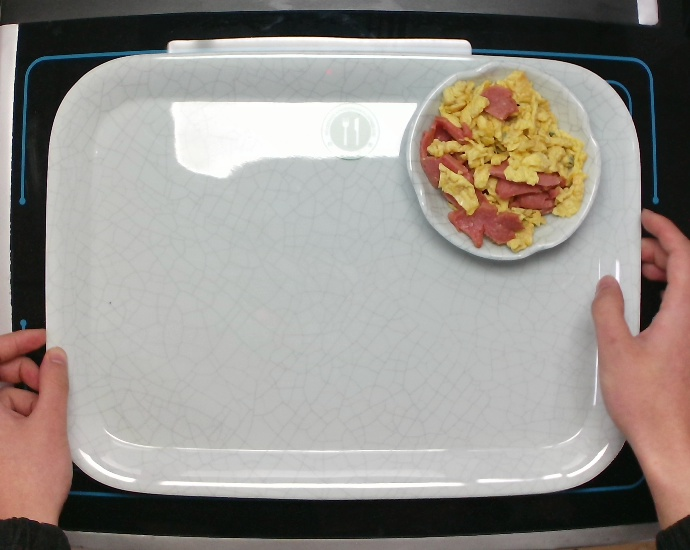JYsf-Ao_Yuan_Wan: (403, 57, 604, 264)
